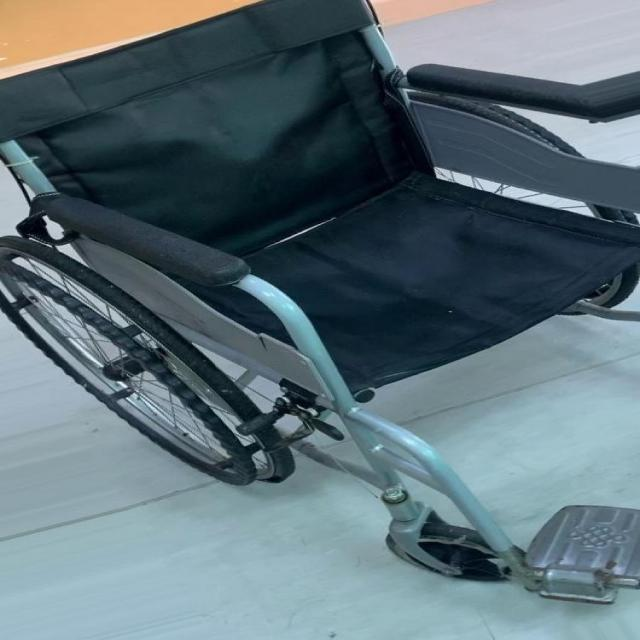wheelchair: (0, 2, 640, 612)
